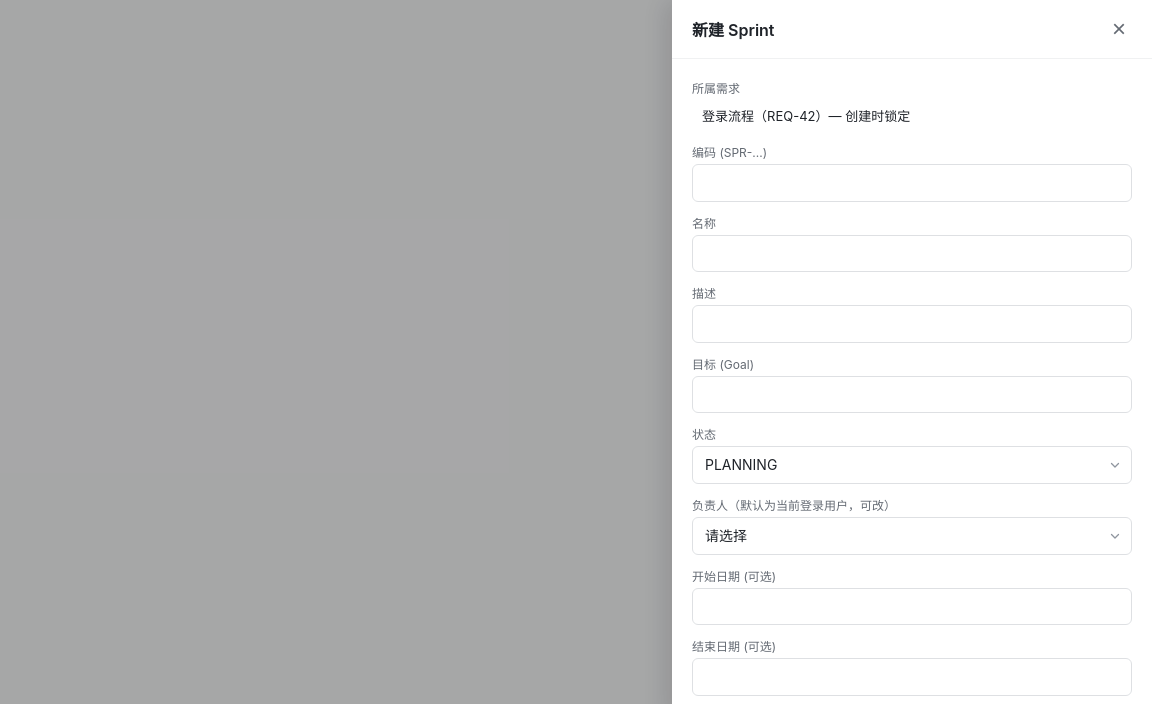
SprintEditDrawer › shows a form error when owner is missing
Expected: the dropdown with test id "sprint-owner-select" is shown, [692,517,1132,555]
Type "SPR-X" into the field labelled "编码 (SPR-...)" at {"x": 912, "y": 183}, box [692,164,1132,202]
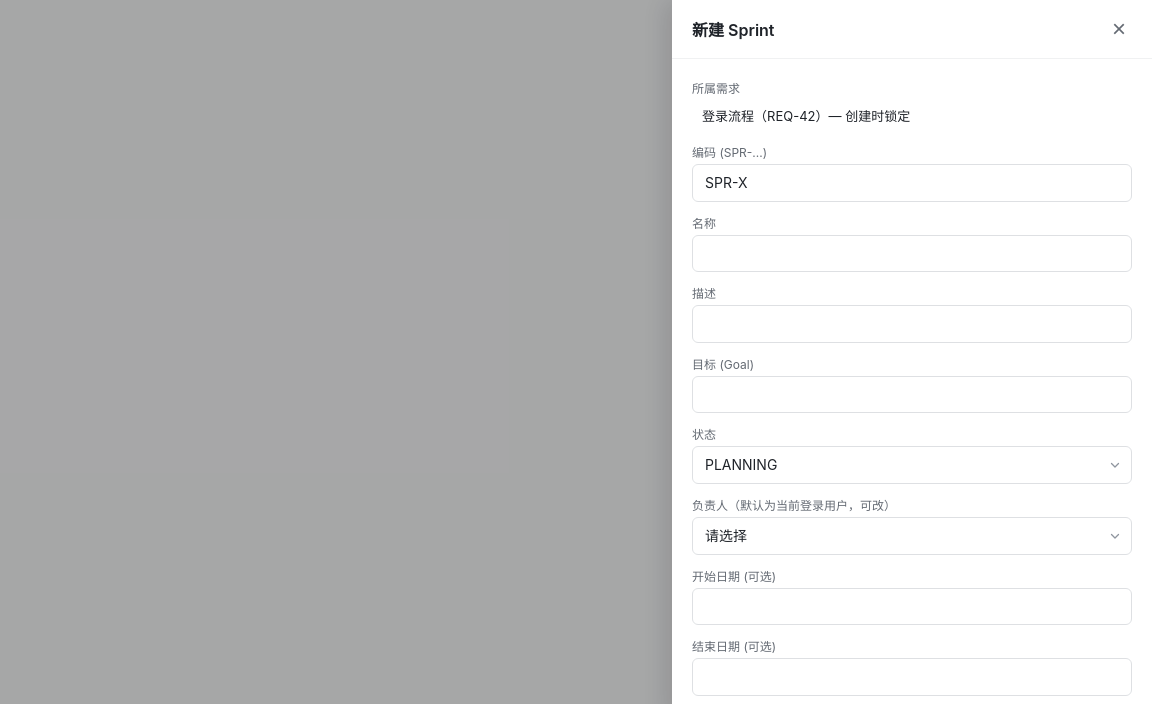
Type "Phase 1" into the field labelled "名称" at {"x": 912, "y": 253}, box [692,235,1132,272]
(page scrolled)
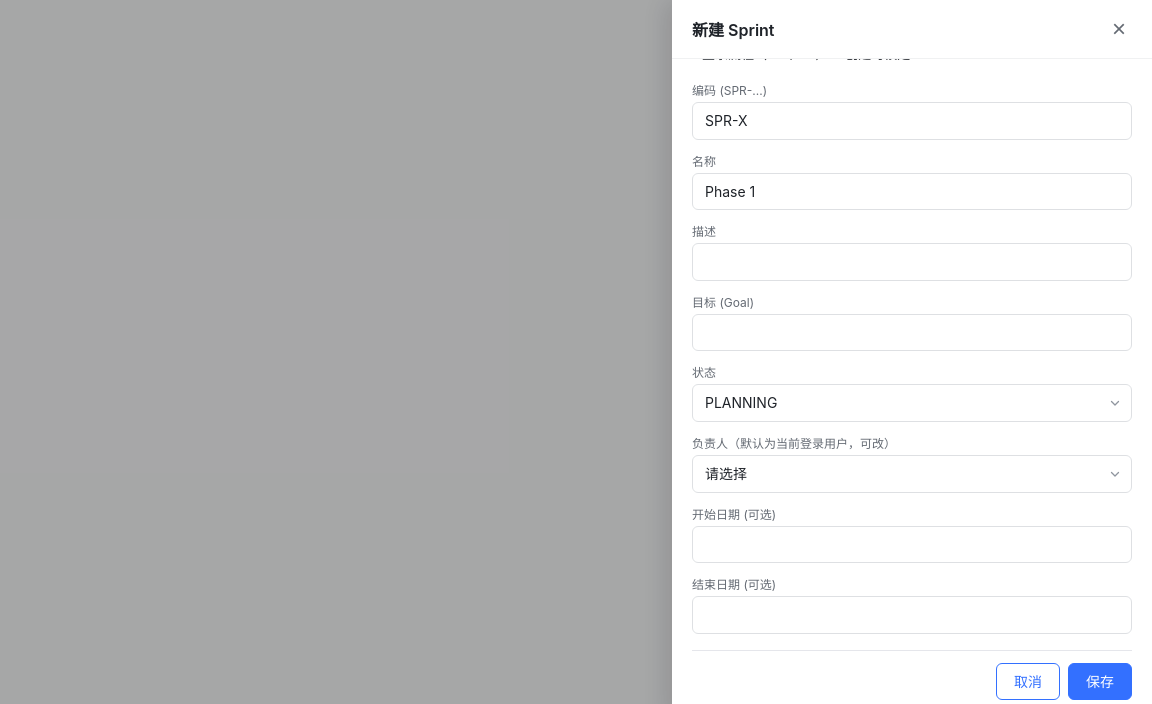
Click the button "保存" at {"x": 1100, "y": 682}, box [1068,663,1132,700]
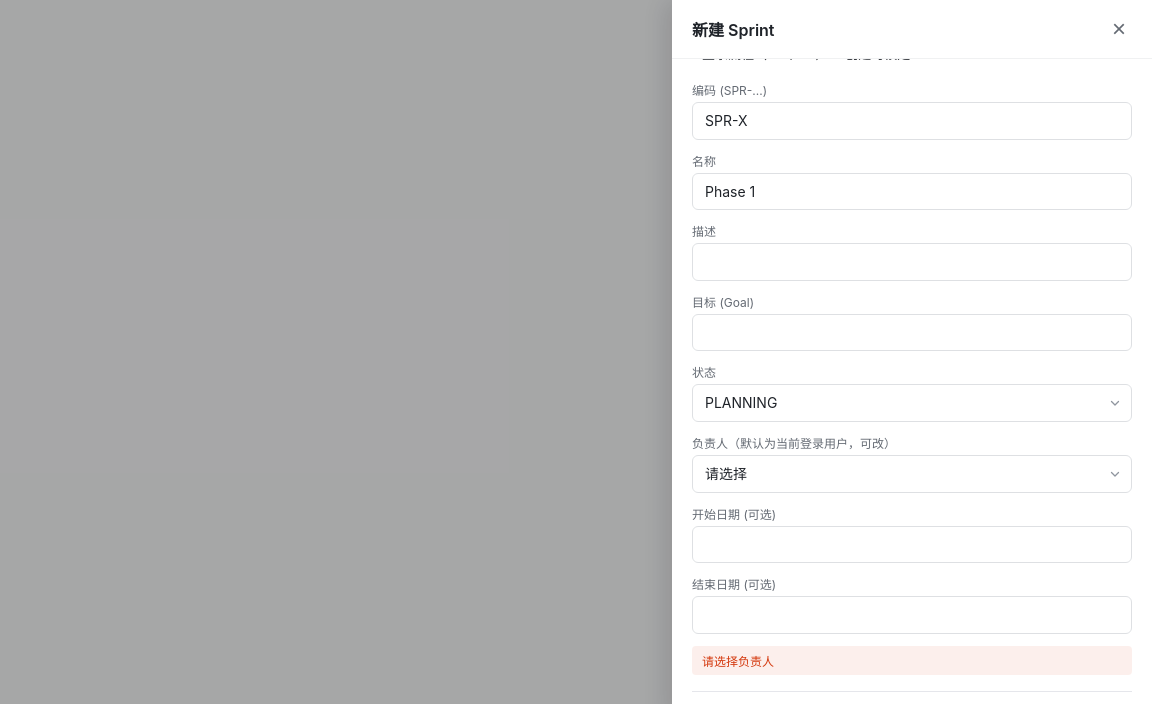
Expected: the text with test id "sprint-form-error" reads "请选择负责人", [702,654,774,669]
